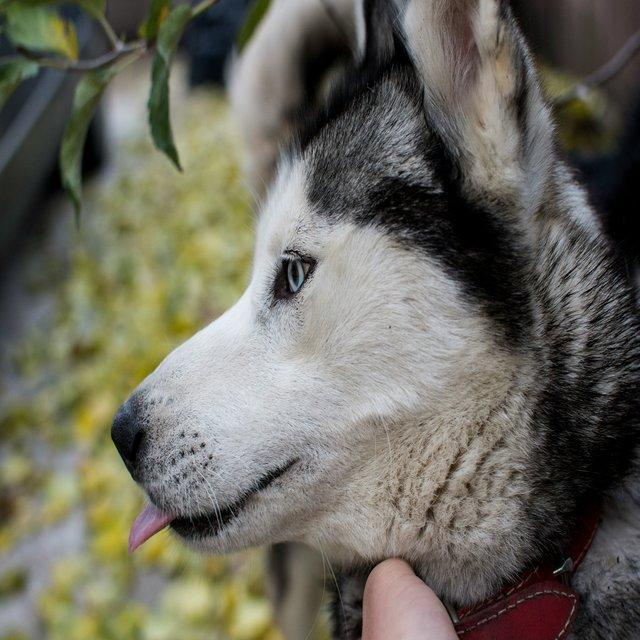husky: (109, 0, 638, 638)
